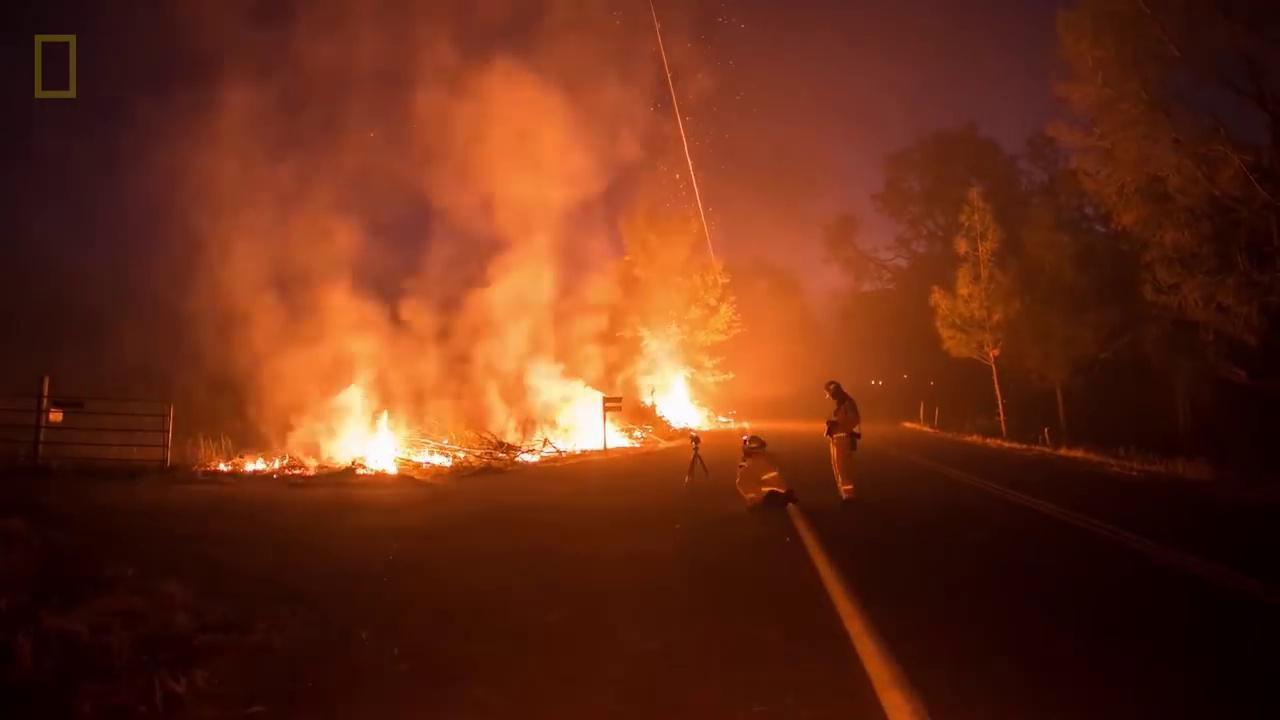Fire: (511, 356, 643, 464), (327, 376, 457, 479), (652, 355, 730, 432), (217, 449, 280, 474)
